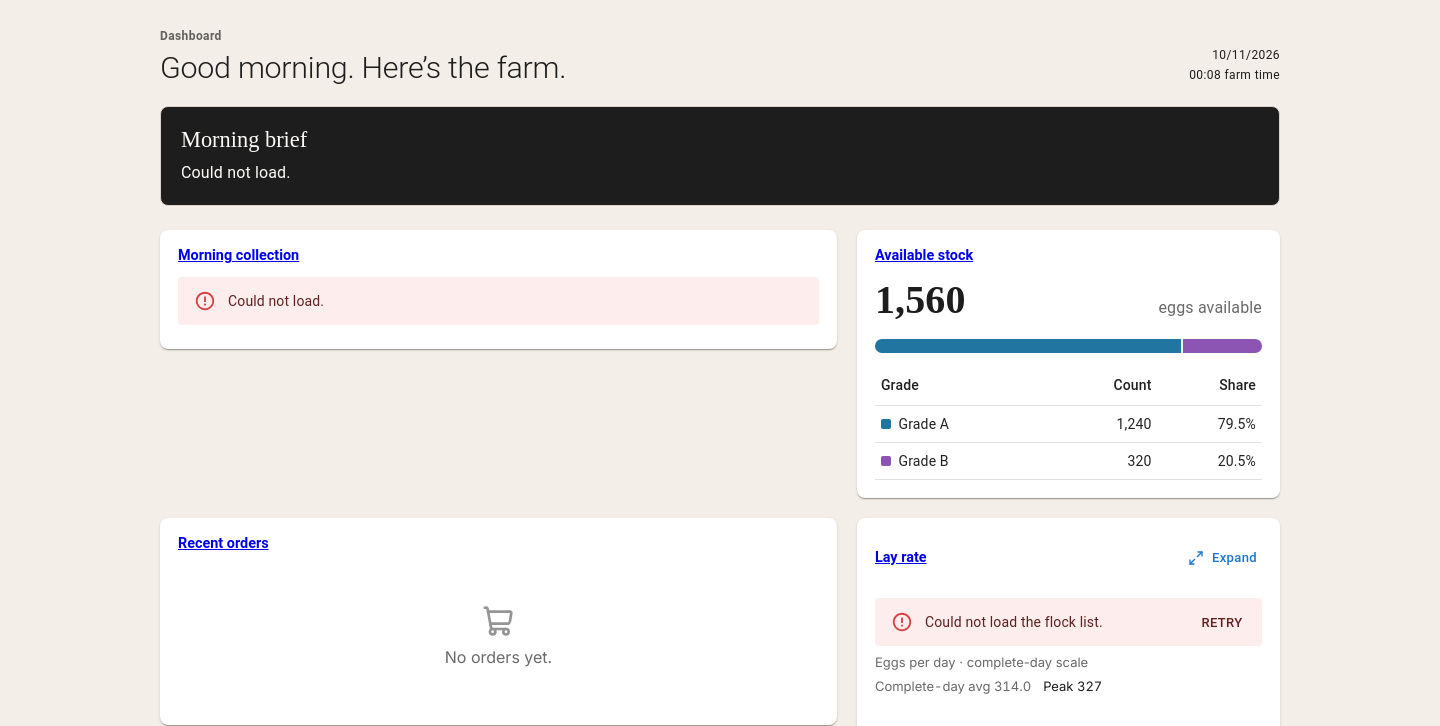
Scenario: Dashboard capture status (#654, #829 ruled list) › recovers the flock panel on Retry even while another panel hangs
The image size is (1440, 726).
Click the button "Retry".
click(1222, 624)  # box [1190,608,1254,639]
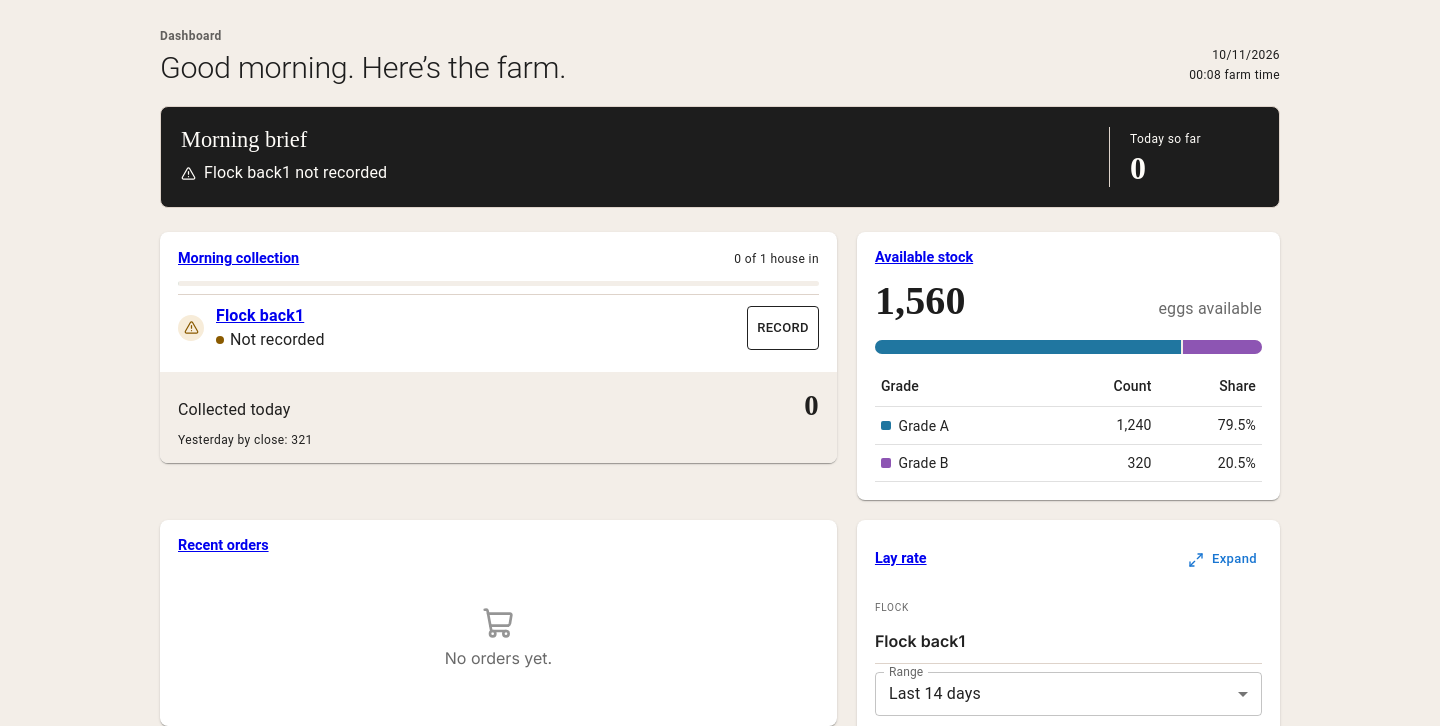
Expected: the element "Flock back1" is shown, [178,294,819,360]
Expected: the text "Could not load the flock list." is gone
Expected: the button "Retry" is gone
